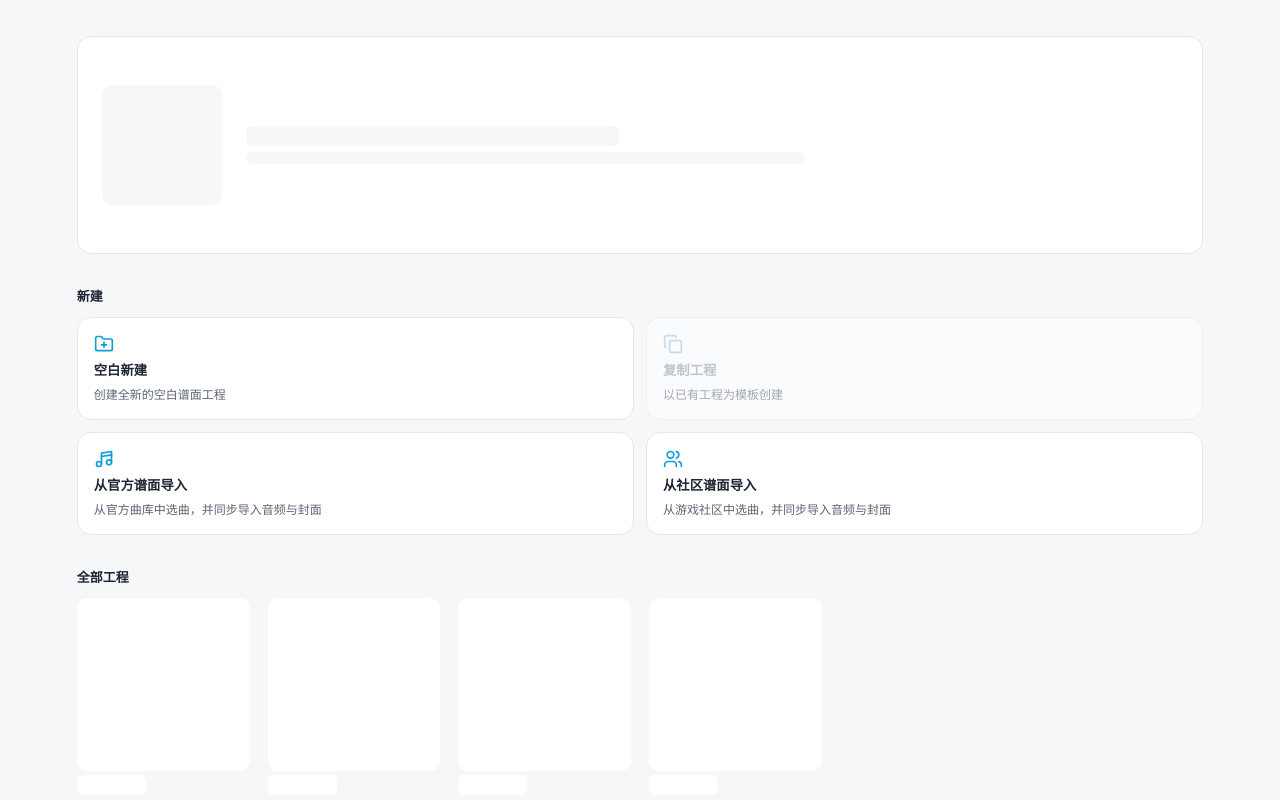
Test: 票 15 + 17 · 选曲目录的行内缩略图 › 没滚到的行不取图（既不请求网关，也不挂 img）；滚到才收缓存 + 出图
Check: the heading "全部工程" is shown, box top-left (77, 567), bottom-right (129, 586)
Click the button "空白新建 创建全新的空白谱面工程" at (120, 370), box top-left (77, 317), bottom-right (634, 420)
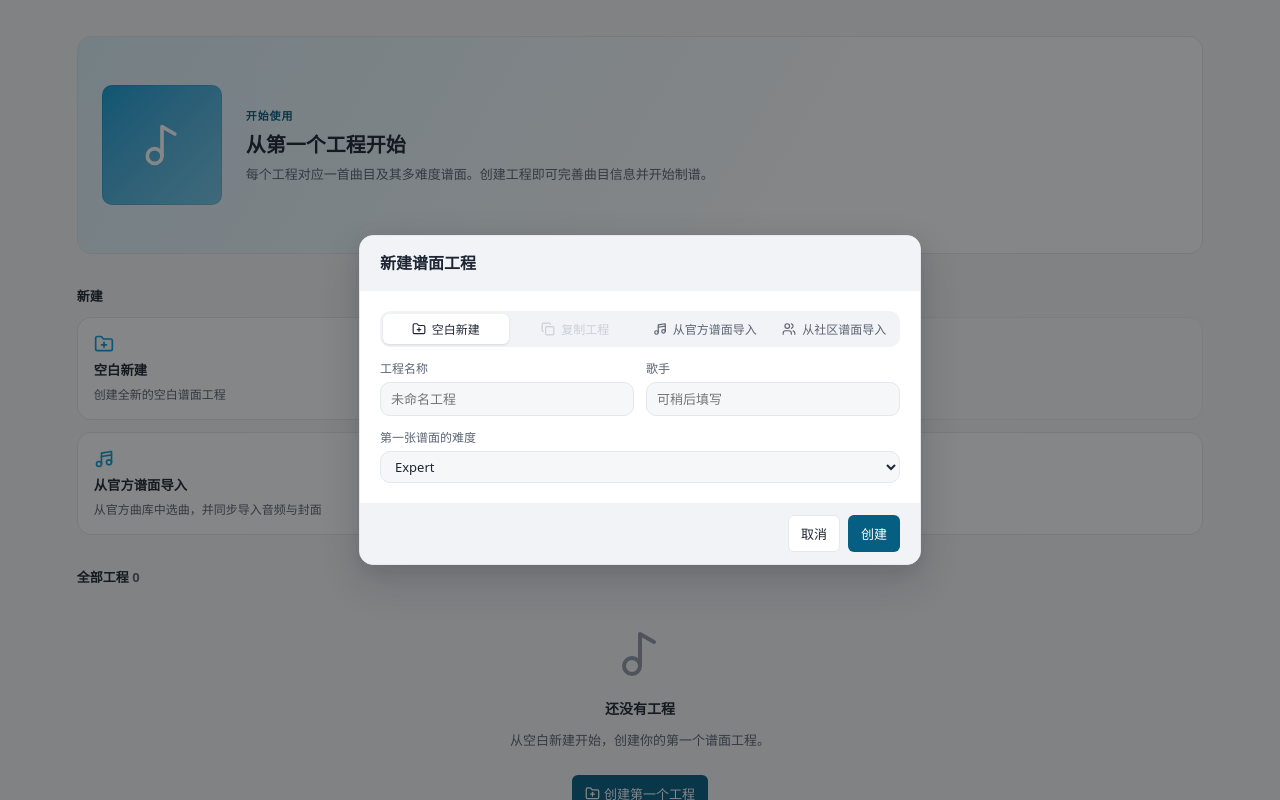
Click the button "从官方谱面导入" at (705, 329), box top-left (642, 314), bottom-right (768, 344)
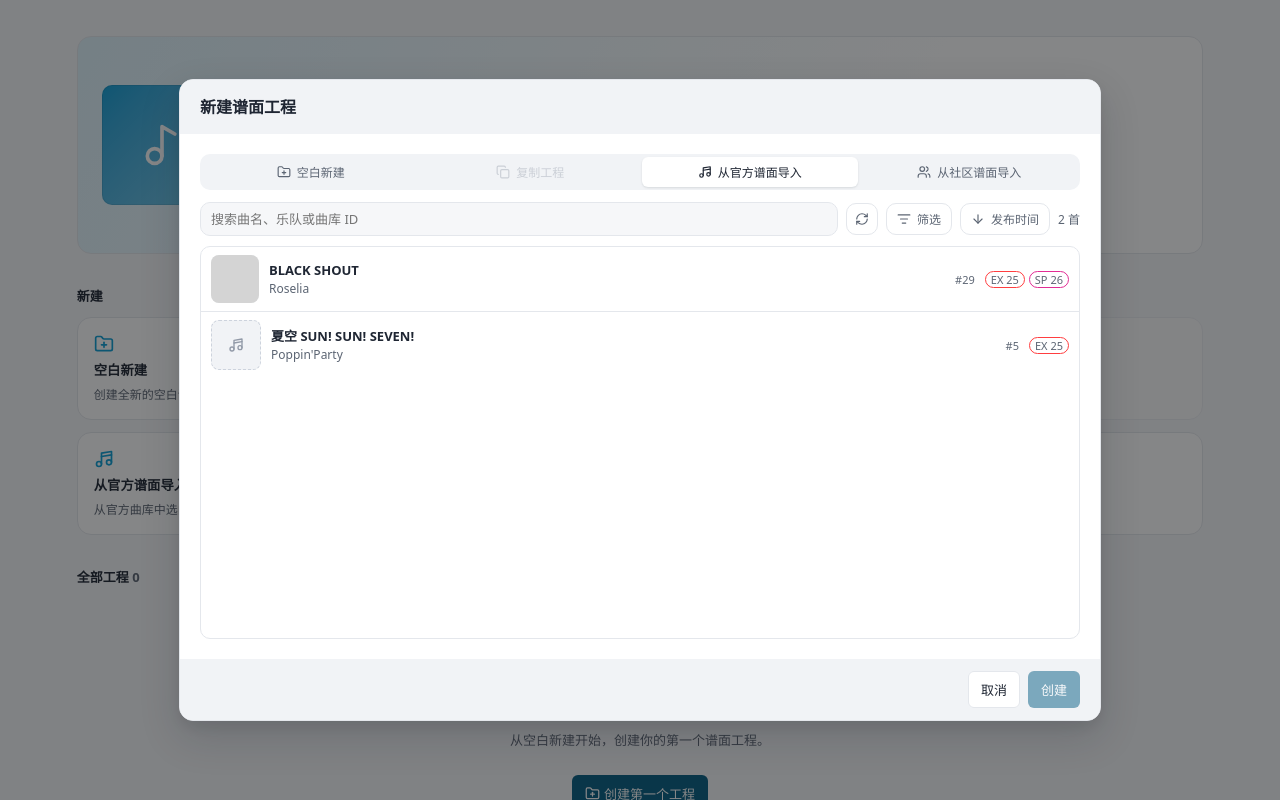
Check: the text "BLACK SHOUT" is shown, box top-left (269, 261), bottom-right (359, 279)
Check: the 8th icon is shown, box top-left (228, 337), bottom-right (244, 353)
